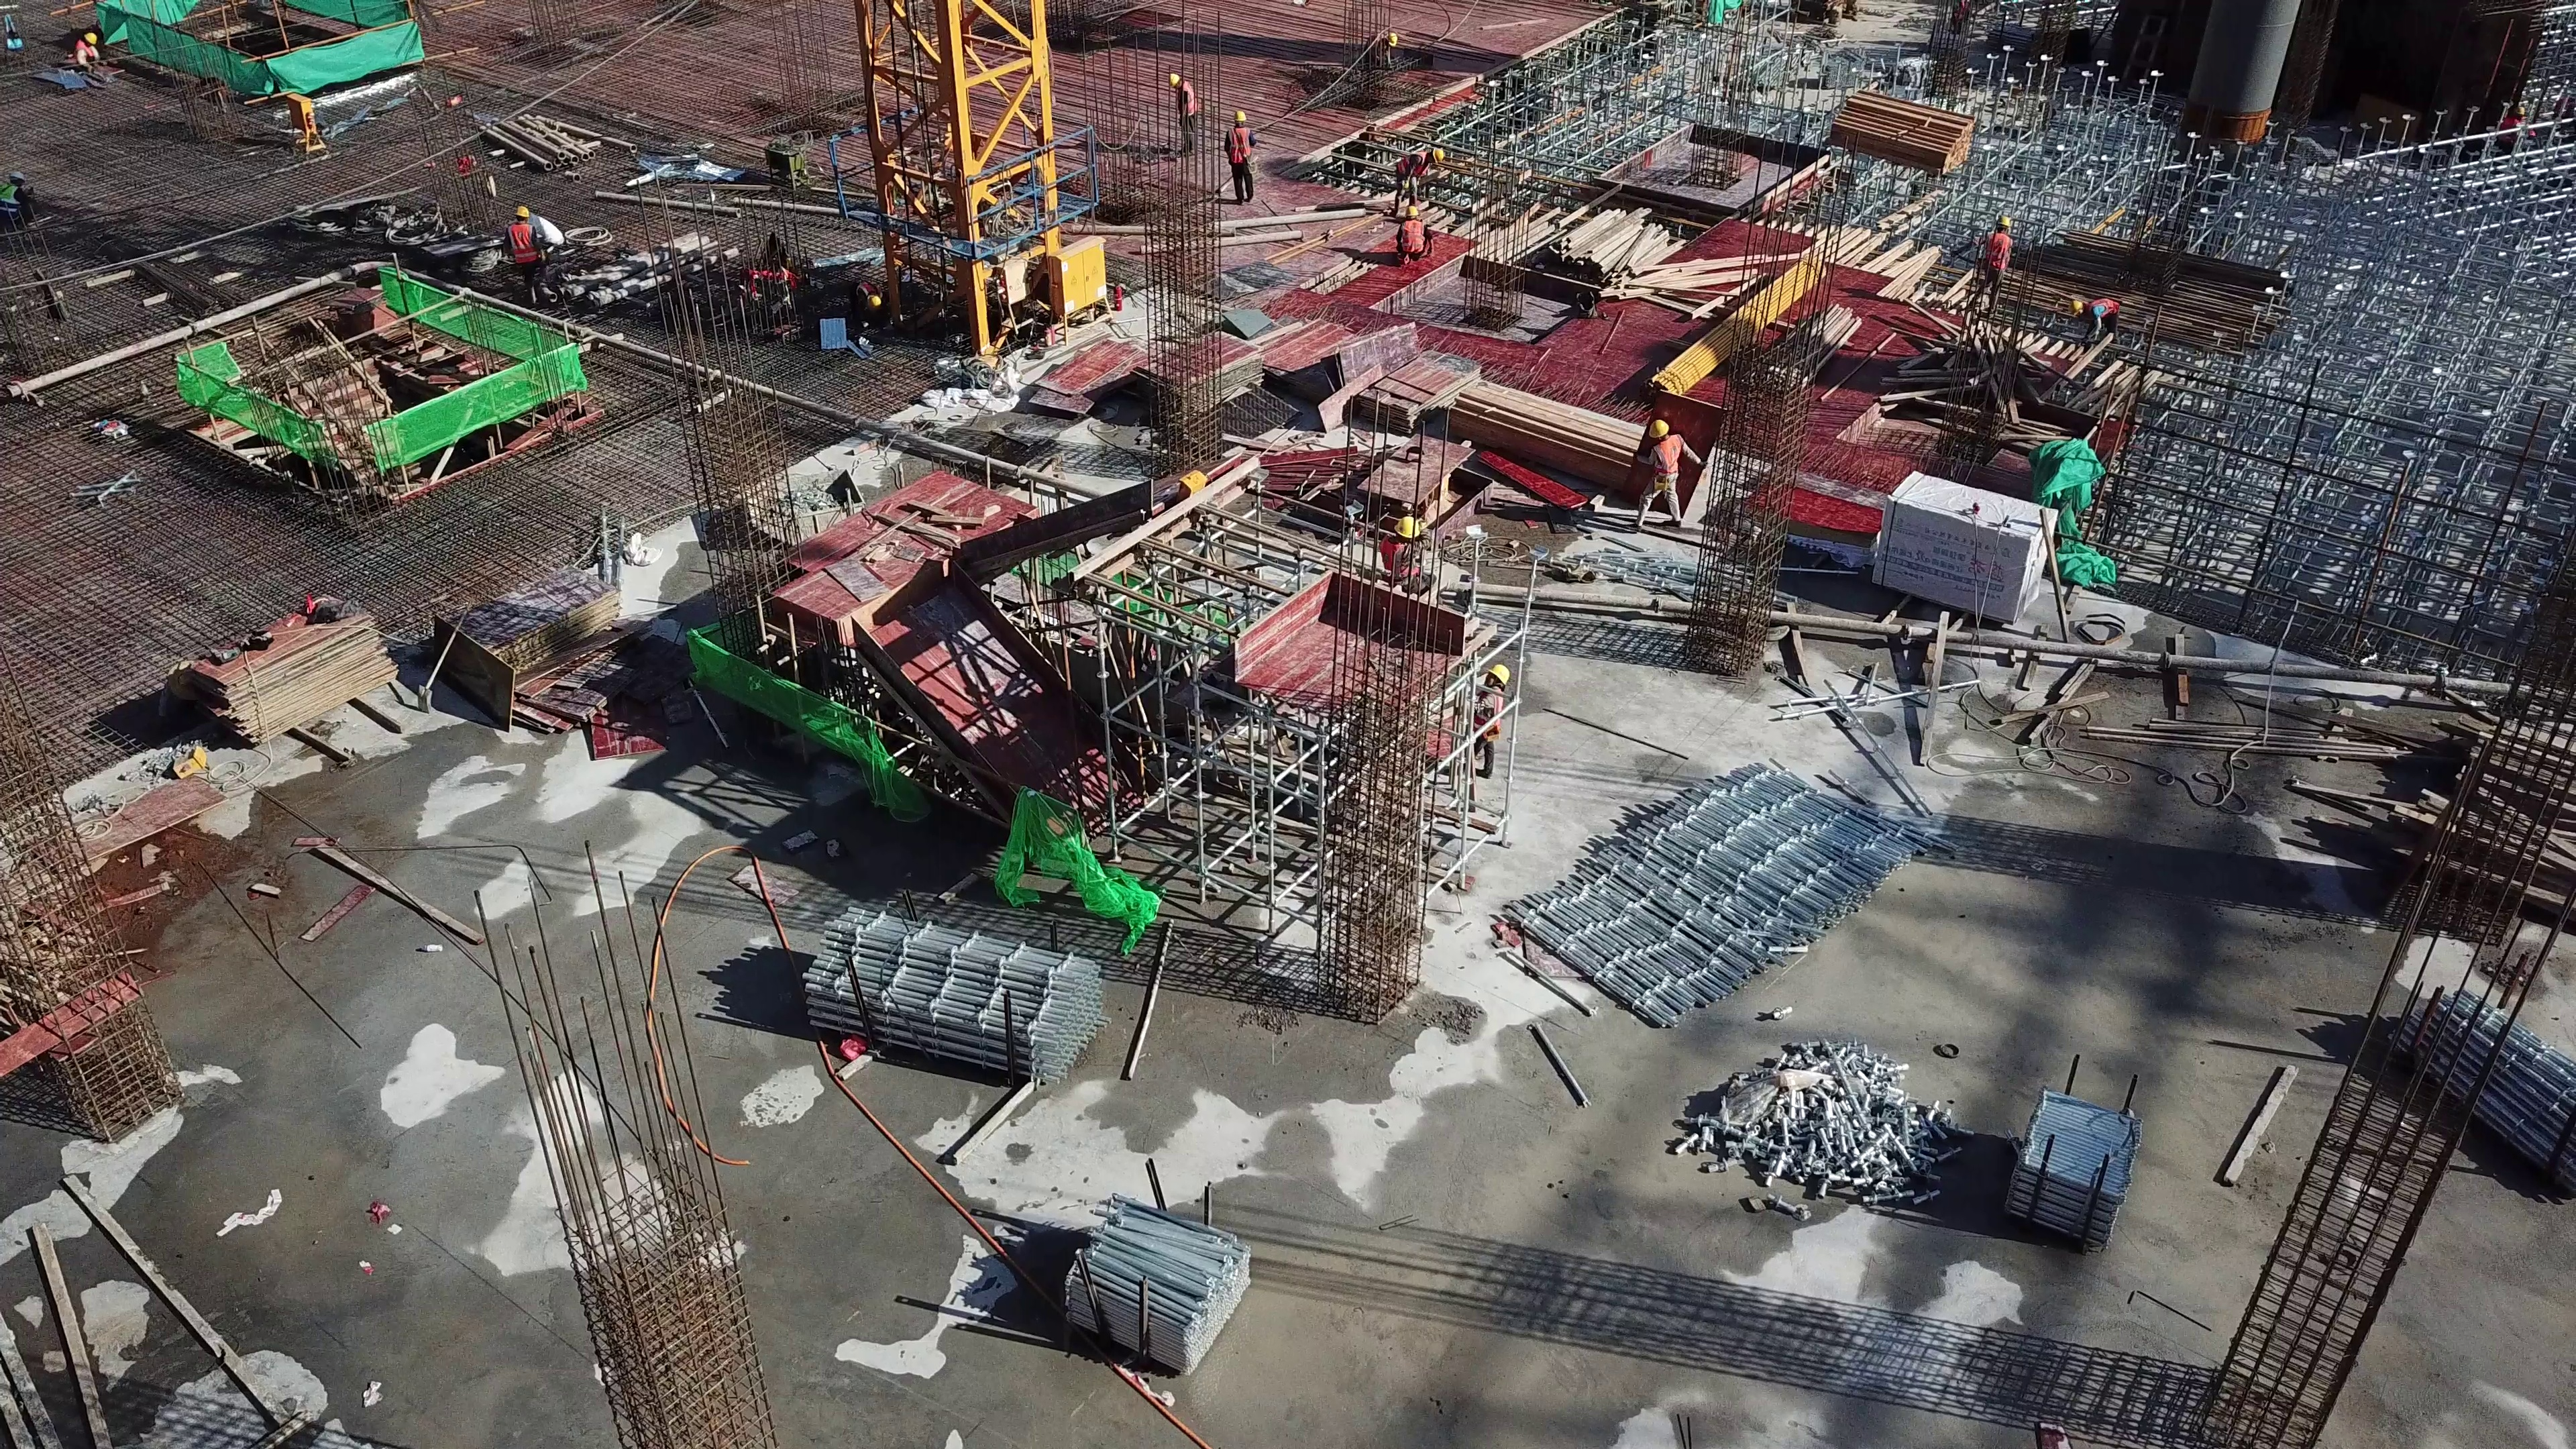board: (180, 590, 390, 765), (446, 558, 633, 727)
person: (1216, 91, 1260, 219), (490, 205, 542, 299), (1651, 415, 1691, 520), (1983, 211, 2018, 322), (2071, 281, 2121, 354), (1391, 508, 1441, 573), (1476, 663, 1505, 777), (1394, 191, 1435, 255)
scaffold: (1502, 756, 1919, 1036), (805, 902, 1106, 1083), (1049, 1199, 1250, 1368), (2403, 987, 2576, 1175), (2018, 1094, 2132, 1252)
wood: (1444, 383, 1715, 508), (1467, 214, 1715, 316)
